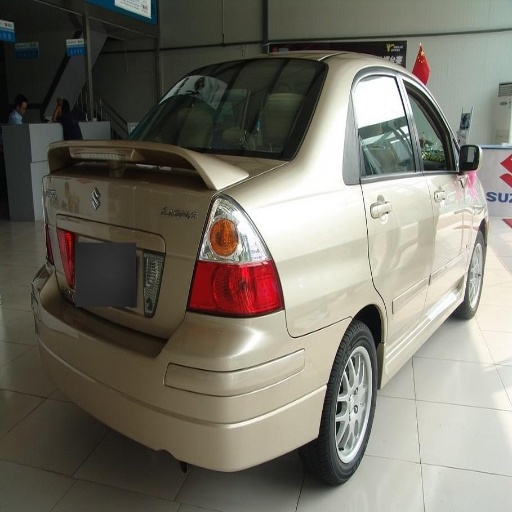back_bumper: (39, 303, 350, 469)
back_right_door: (347, 69, 430, 338)
tailgate: (55, 147, 225, 340)
trunk: (55, 148, 145, 294), (232, 202, 360, 291), (260, 196, 343, 238)
